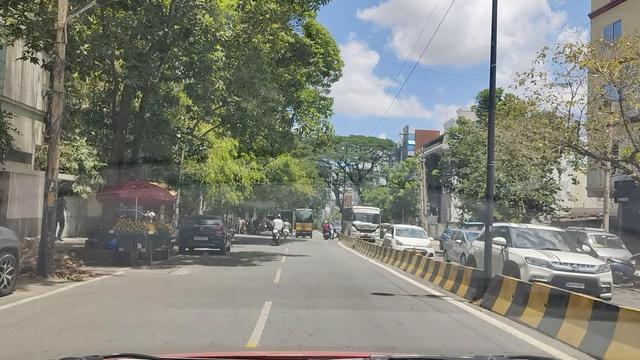LMV: (187, 213, 227, 249), (268, 212, 283, 238)
